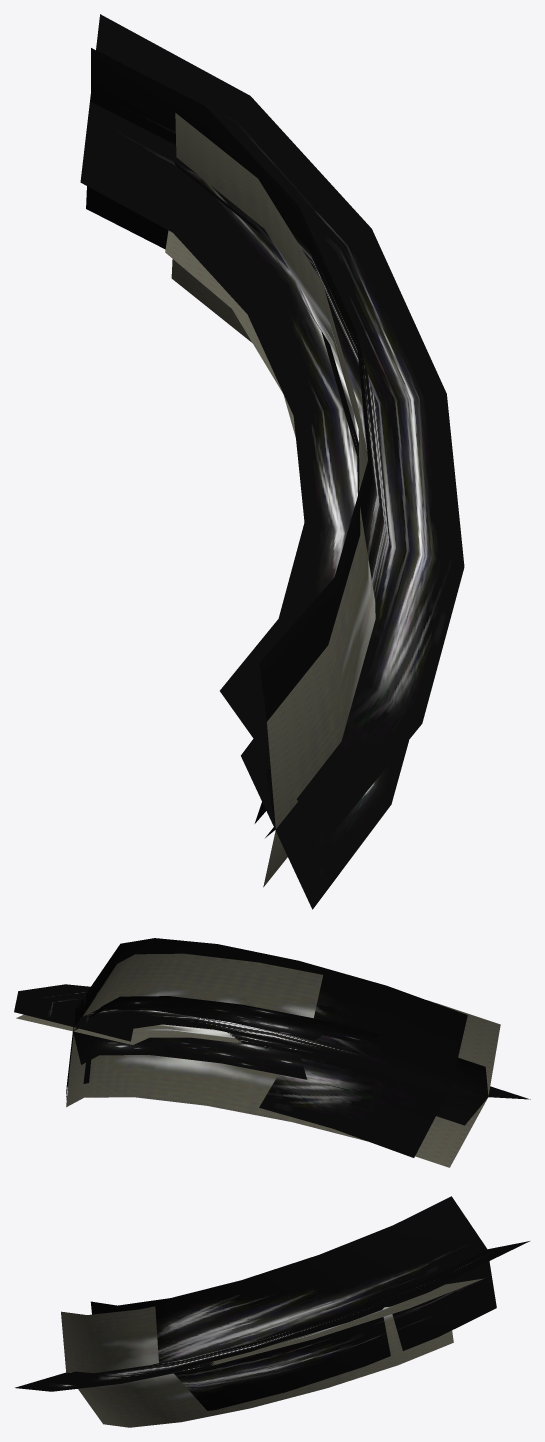
The model's file is Effect_1001tskill02.fbx.
The picture shows the model from 3 angles, top to bottom: view 1: azimuth 30°, elevation 25°; view 2: azimuth 150°, elevation 25°; view 3: azimuth 270°, elevation 25°; orthographic projection. The views are drawn at different scales.
Visible parts, largest first — view 1: Effect_1001tattack03, Effect_1001tattack01, Effect_1001tattack02; view 2: Effect_1001tattack03, Effect_1001tattack01, Effect_1001tattack02; view 3: Effect_1001tattack03, Effect_1001tattack01, Effect_1001tattack02.
Part boxes in pixels (x1,y1,x2,y2): Effect_1001tattack03: (80, 14, 464, 840); Effect_1001tattack01: (165, 113, 375, 887); Effect_1001tattack02: (174, 162, 408, 909); Effect_1001tattack03: (14, 938, 467, 1157); Effect_1001tattack01: (16, 953, 500, 1167); Effect_1001tattack02: (73, 996, 530, 1125); Effect_1001tattack03: (46, 1196, 529, 1410); Effect_1001tattack01: (61, 1278, 483, 1427); Effect_1001tattack02: (15, 1361, 214, 1391).
Size of the model in its own units: 1.77 by 2.29 by 3.96.
3 materials, 3 textured.
